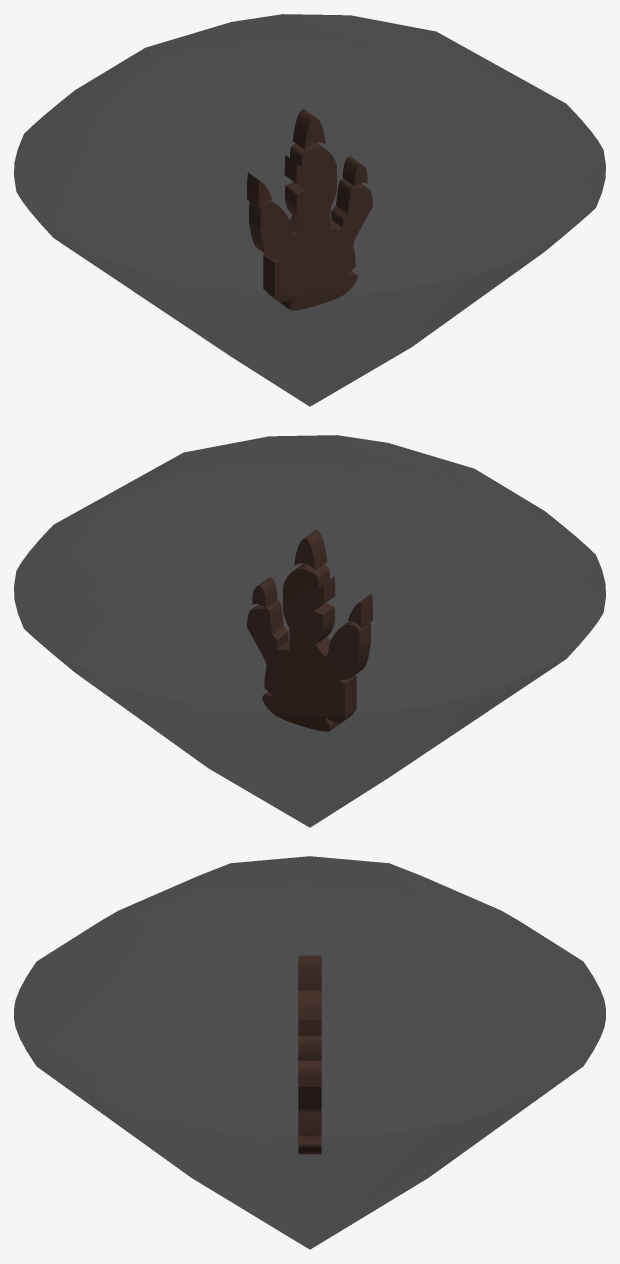
File: Jewel_Model.fbx
The picture shows the model from 3 angles, top to bottom: view 1: azimuth 30°, elevation 25°; view 2: azimuth 150°, elevation 25°; view 3: azimuth 270°, elevation 25°; orthographic projection.
Parts seen in each view (by area): view 1: diamondpink_dmesh.004, Layer 01; view 2: diamondpink_dmesh.004, Layer 01; view 3: diamondpink_dmesh.004, Layer 01.
Part boxes in pixels (bbox=[...]): diamondpink_dmesh.004: bbox=[14, 14, 605, 406]; Layer 01: bbox=[247, 109, 372, 310]; diamondpink_dmesh.004: bbox=[14, 435, 605, 827]; Layer 01: bbox=[247, 530, 372, 731]; diamondpink_dmesh.004: bbox=[14, 856, 605, 1249]; Layer 01: bbox=[298, 955, 321, 1154].
Size of the model in its own units: 51.2 by 51.2 by 31.23.
